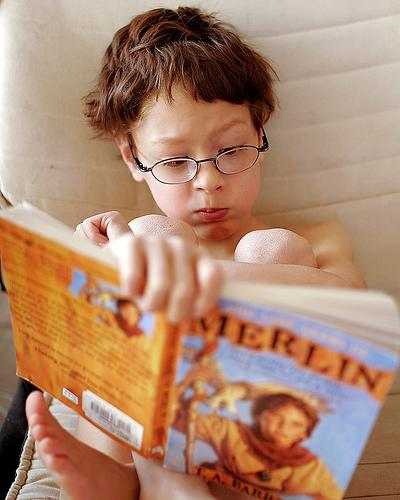person: (27, 10, 370, 500)
